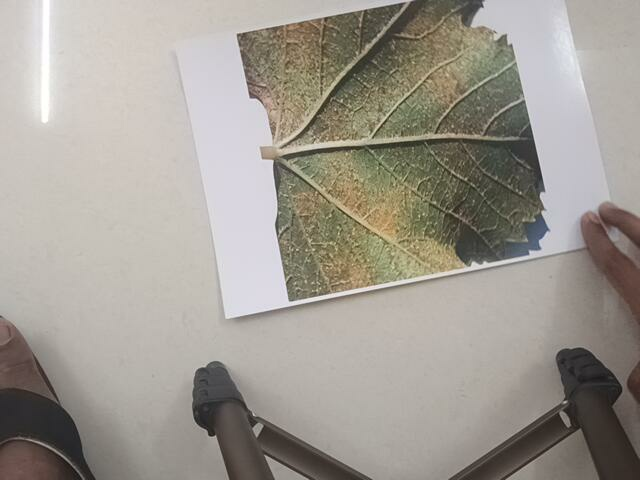Grape_Rust_Fungus: (233, 2, 559, 301)
